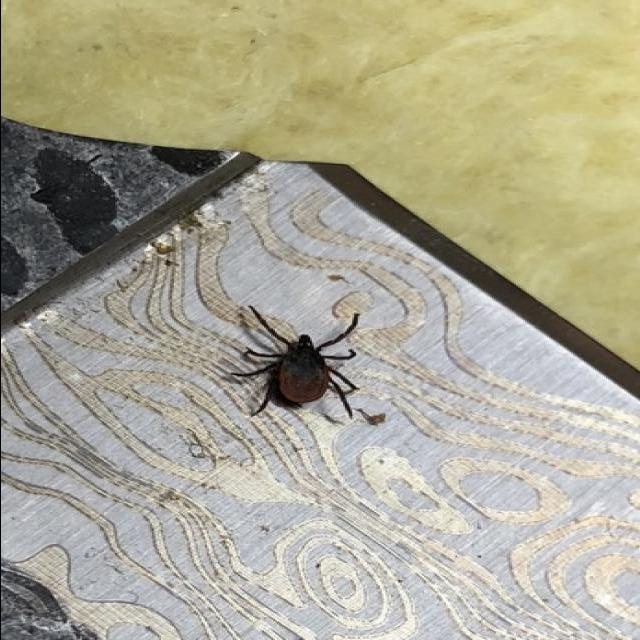Ixodes Ricinus-F: (230, 306, 357, 425)
